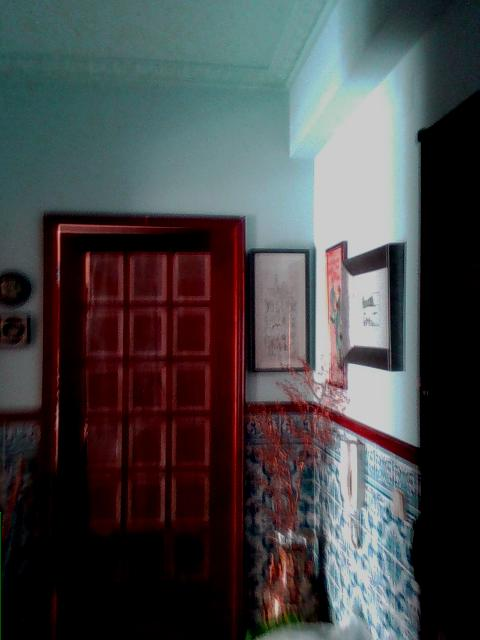closed_door: (39, 213, 246, 639)
